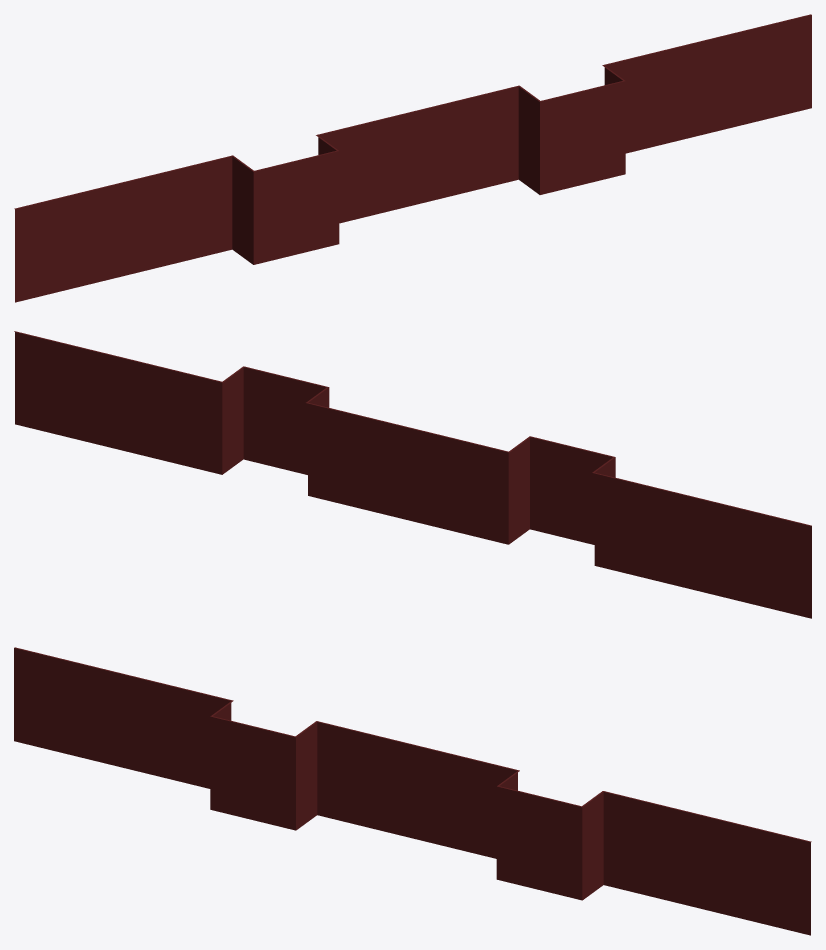
Rendered from p55-wall-front-v2-base.fbx.
The picture shows the model from 3 angles, top to bottom: view 1: azimuth 30°, elevation 25°; view 2: azimuth 150°, elevation 25°; view 3: azimuth 330°, elevation 25°; orthographic projection.
Visible parts, largest first — view 1: p55-wall-front-v2-base; view 2: p55-wall-front-v2-base; view 3: p55-wall-front-v2-base.
Part boxes in pixels (bbox=[...]): p55-wall-front-v2-base: bbox=[14, 14, 811, 302]; p55-wall-front-v2-base: bbox=[14, 331, 811, 618]; p55-wall-front-v2-base: bbox=[14, 647, 811, 935].
Bounding box in the file's own units: 2505 × 280 × 120.
